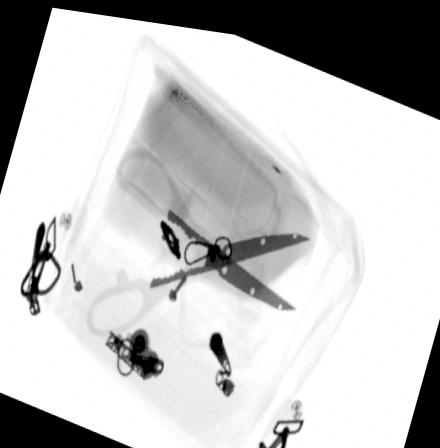Scissors: (85, 143, 312, 334)
